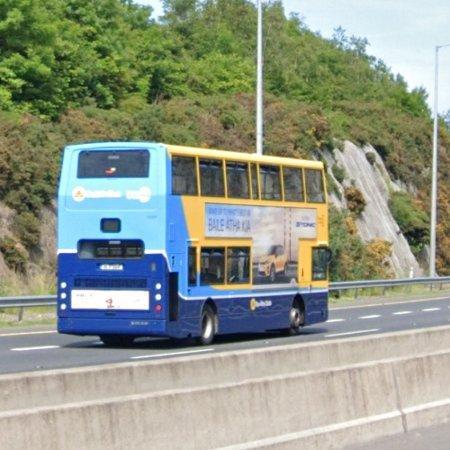buses: (57, 142, 331, 346)
